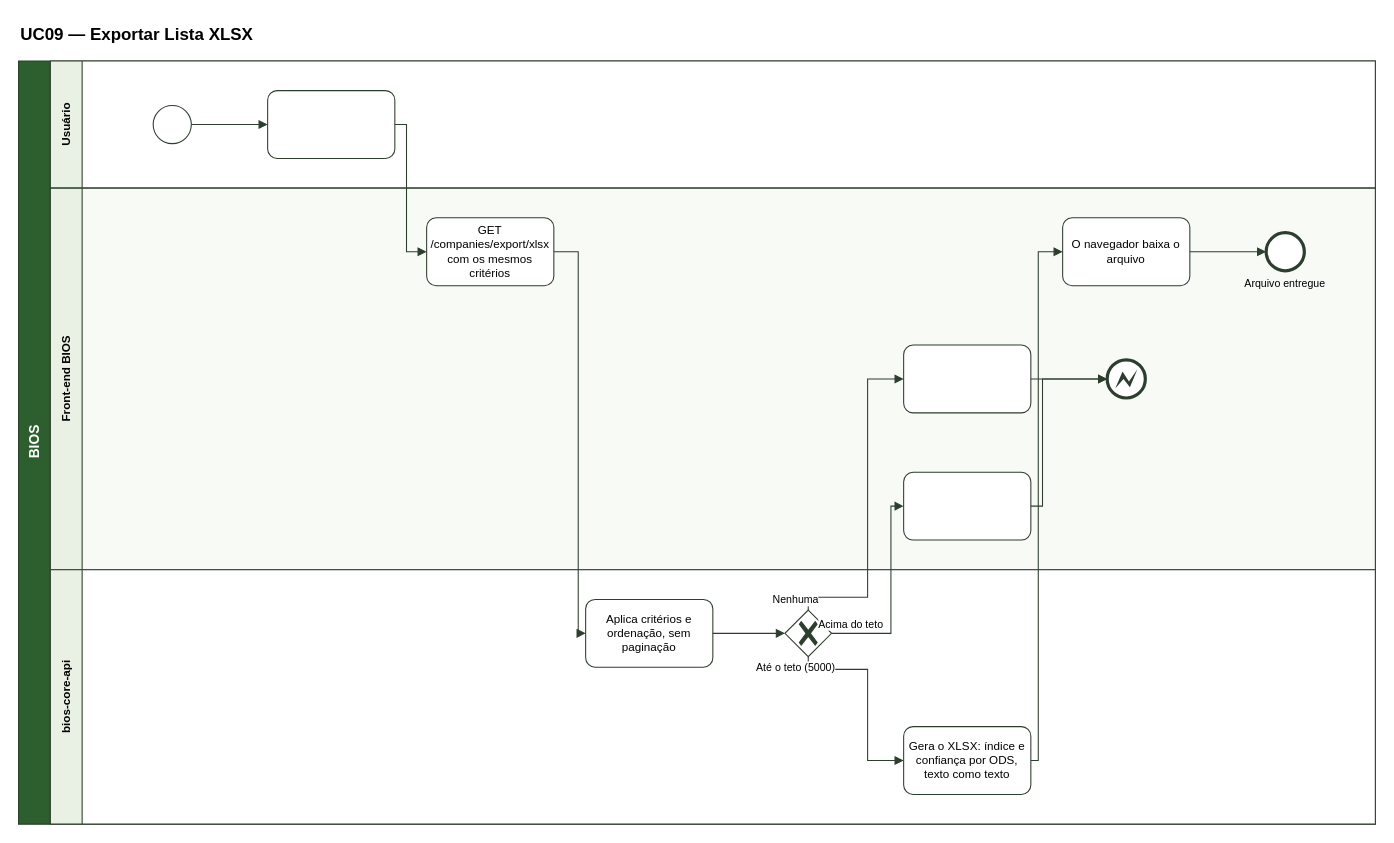
Image size: 1394x843. Some labels were removed from this diagram. Here are the shapes that lost their labels. From the top down, the centre of each, then its label:
At point (171, 124): "Lista exibida (UC08)".
At point (331, 124): "Seleciona exportar".
At point (967, 378): "Informa que não há lista para exportar".
At point (1125, 378): "Sem arquivo".
At point (967, 505): "Pede critérios mais restritos".
